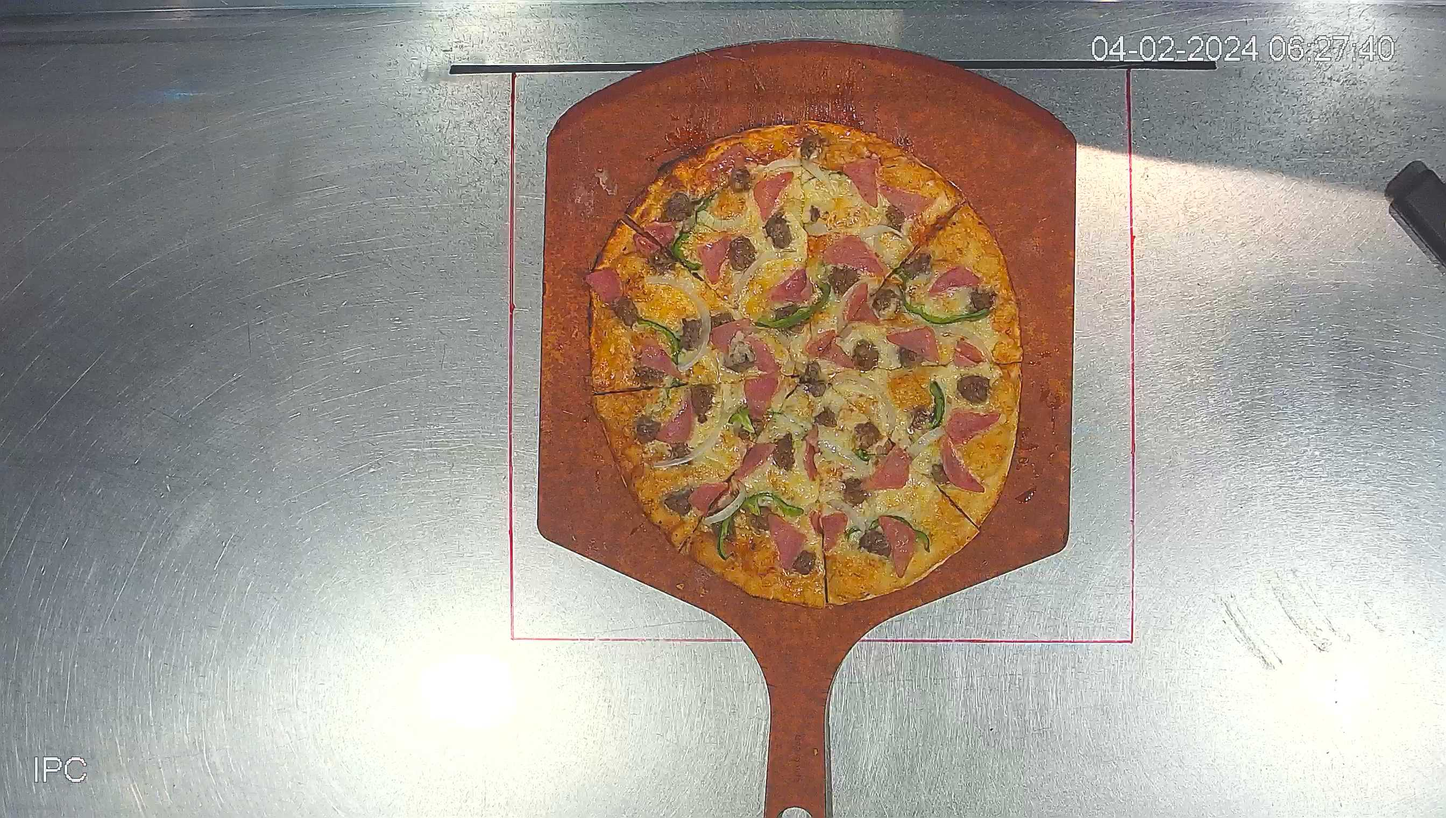hawaiian: (581, 120, 1024, 607)
